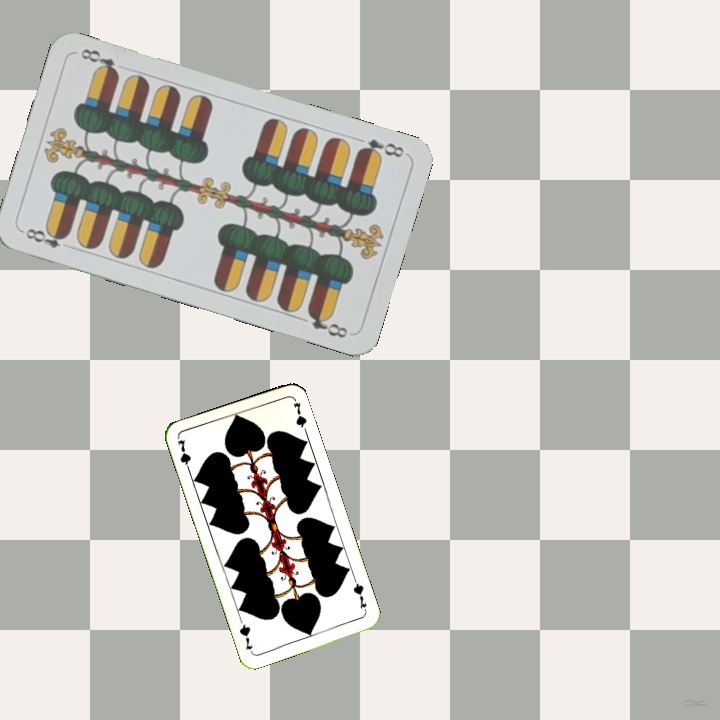E8: (353, 135, 407, 162), (18, 224, 71, 251)
G7: (173, 435, 194, 475), (349, 575, 370, 615)
